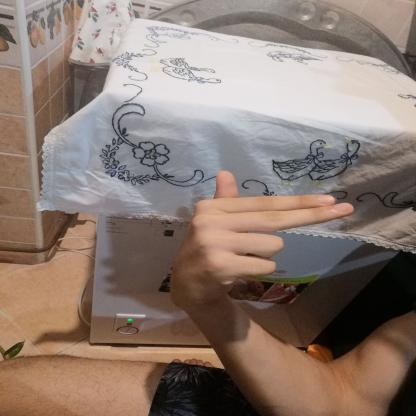GHAYN: (153, 165, 363, 315)
